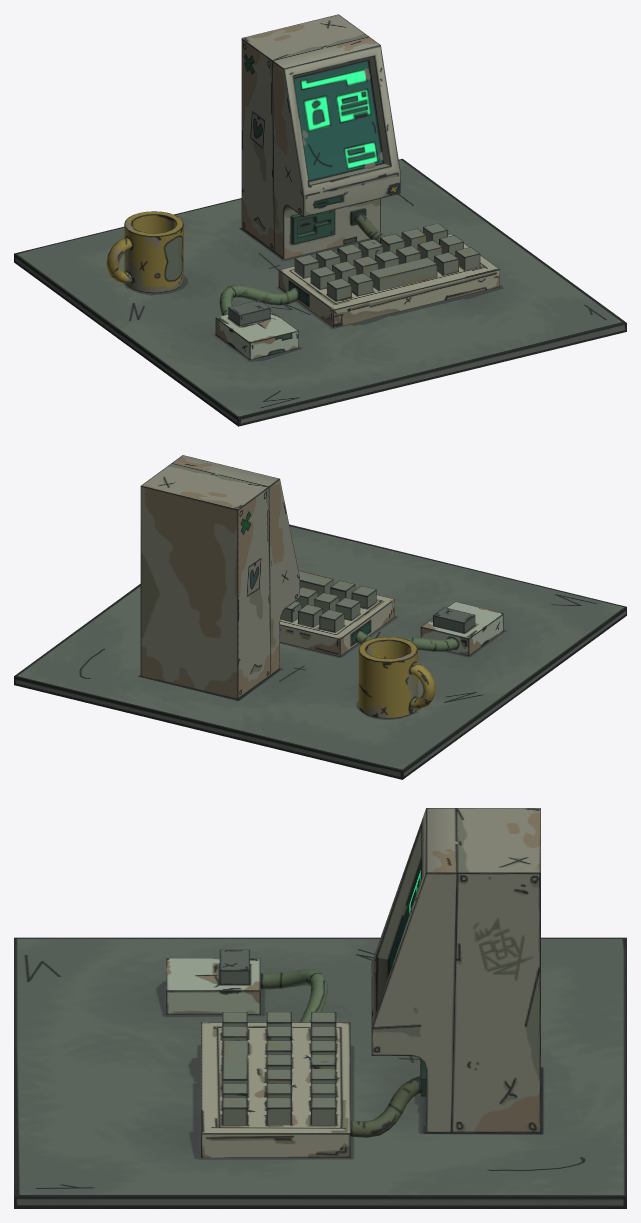
The model's file is computer.glb.
3 renders of one model, top to bottom at view 1: azimuth 30°, elevation 25°; view 2: azimuth 150°, elevation 25°; view 3: azimuth 270°, elevation 25°, orthographic. The views are drawn at different scales.
Visible parts, largest first — view 1: table, pCube1 (×3), pCube25 (×2), pTorus1, pCube3 (×2); view 2: table, pCube1, pCube25 (×2), pTorus1, pCube3 (×2); view 3: table, pCube1 (×2), pCube25 (×3), pCube3 (×2).
Boxes of the visible parts, left/top/right/bottom form: table: left=14, top=158, right=626, bottom=426; pCube1 (×3): left=241, top=14, right=400, bottom=259; pCube25 (×2): left=278, top=223, right=499, bottom=327; pTorus1: left=106, top=211, right=183, bottom=293; pCube3 (×2): left=215, top=285, right=298, bottom=360; table: left=14, top=524, right=626, bottom=779; pCube1: left=140, top=455, right=299, bottom=699; pCube25 (×2): left=280, top=570, right=394, bottom=656; pTorus1: left=358, top=637, right=435, bottom=718; pCube3 (×2): left=356, top=601, right=503, bottom=656; table: left=14, top=937, right=626, bottom=1208; pCube1 (×2): left=371, top=808, right=540, bottom=1132; pCube25 (×3): left=201, top=1012, right=420, bottom=1157; pCube3 (×2): left=166, top=949, right=327, bottom=1022.
Size of the model in its own units: 0.0972 by 0.0477 by 0.0972.
Materials: 12 (12 with a texture image).
